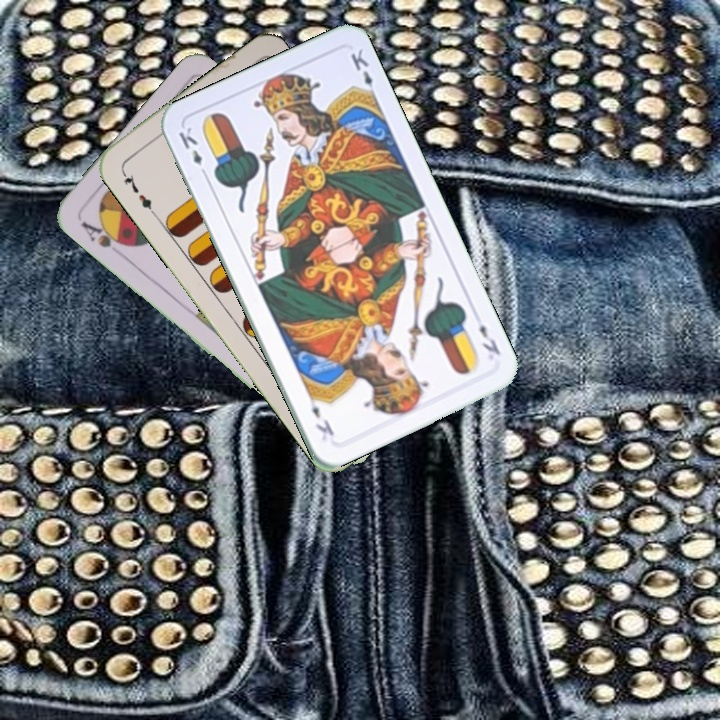E7: (117, 166, 158, 218)
EK: (174, 123, 211, 180), (475, 320, 503, 358)
SA: (76, 216, 131, 259)
